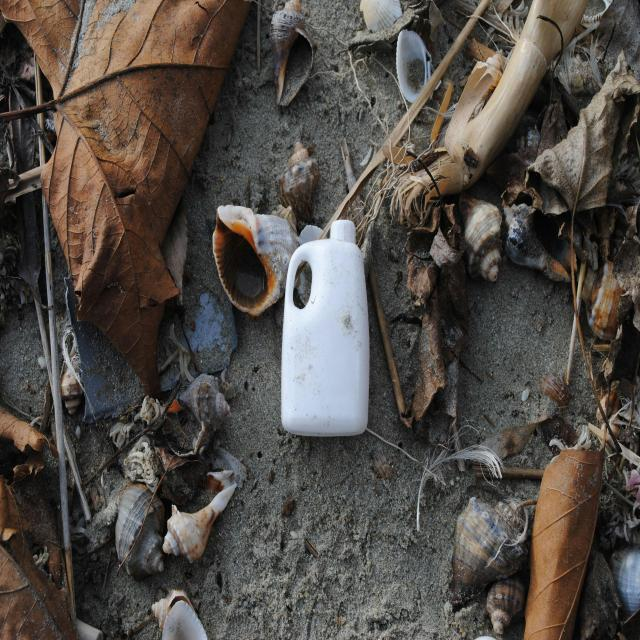plastic: (289, 241, 373, 423)
